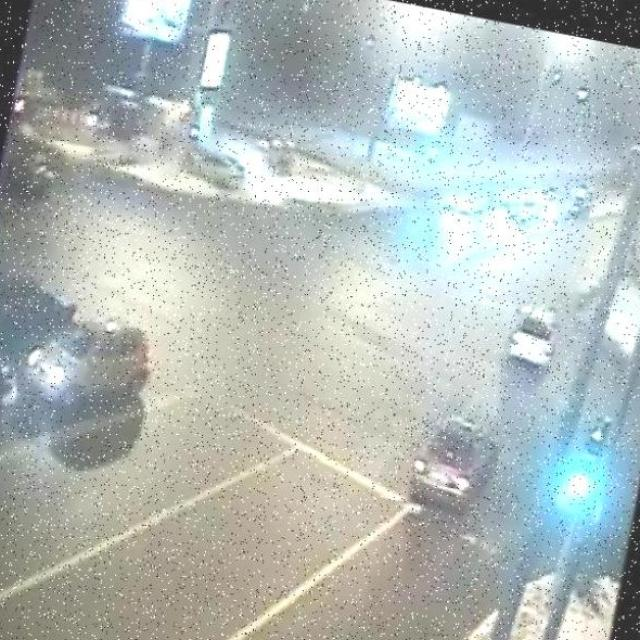accident: (165, 119, 256, 193)
